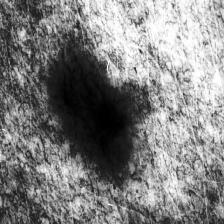Benign Marking or Mole: (51, 47, 127, 174)
